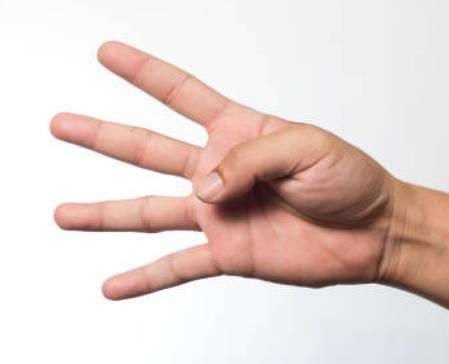right: (44, 34, 372, 303)
